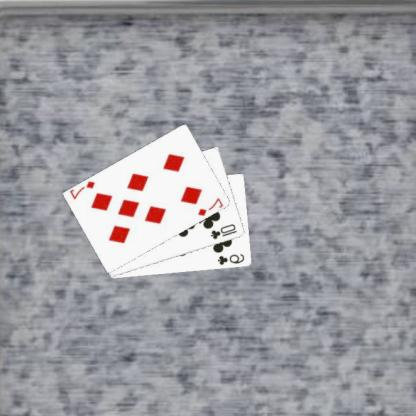10C: (210, 221, 241, 241)
6C: (216, 252, 248, 266)
7D: (197, 195, 226, 217), (70, 178, 98, 200)
